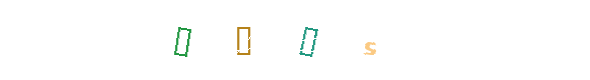3: (203, 0, 283, 80)
4: (204, 0, 284, 80)
7: (252, 0, 332, 80)
S: (255, 0, 335, 80)
